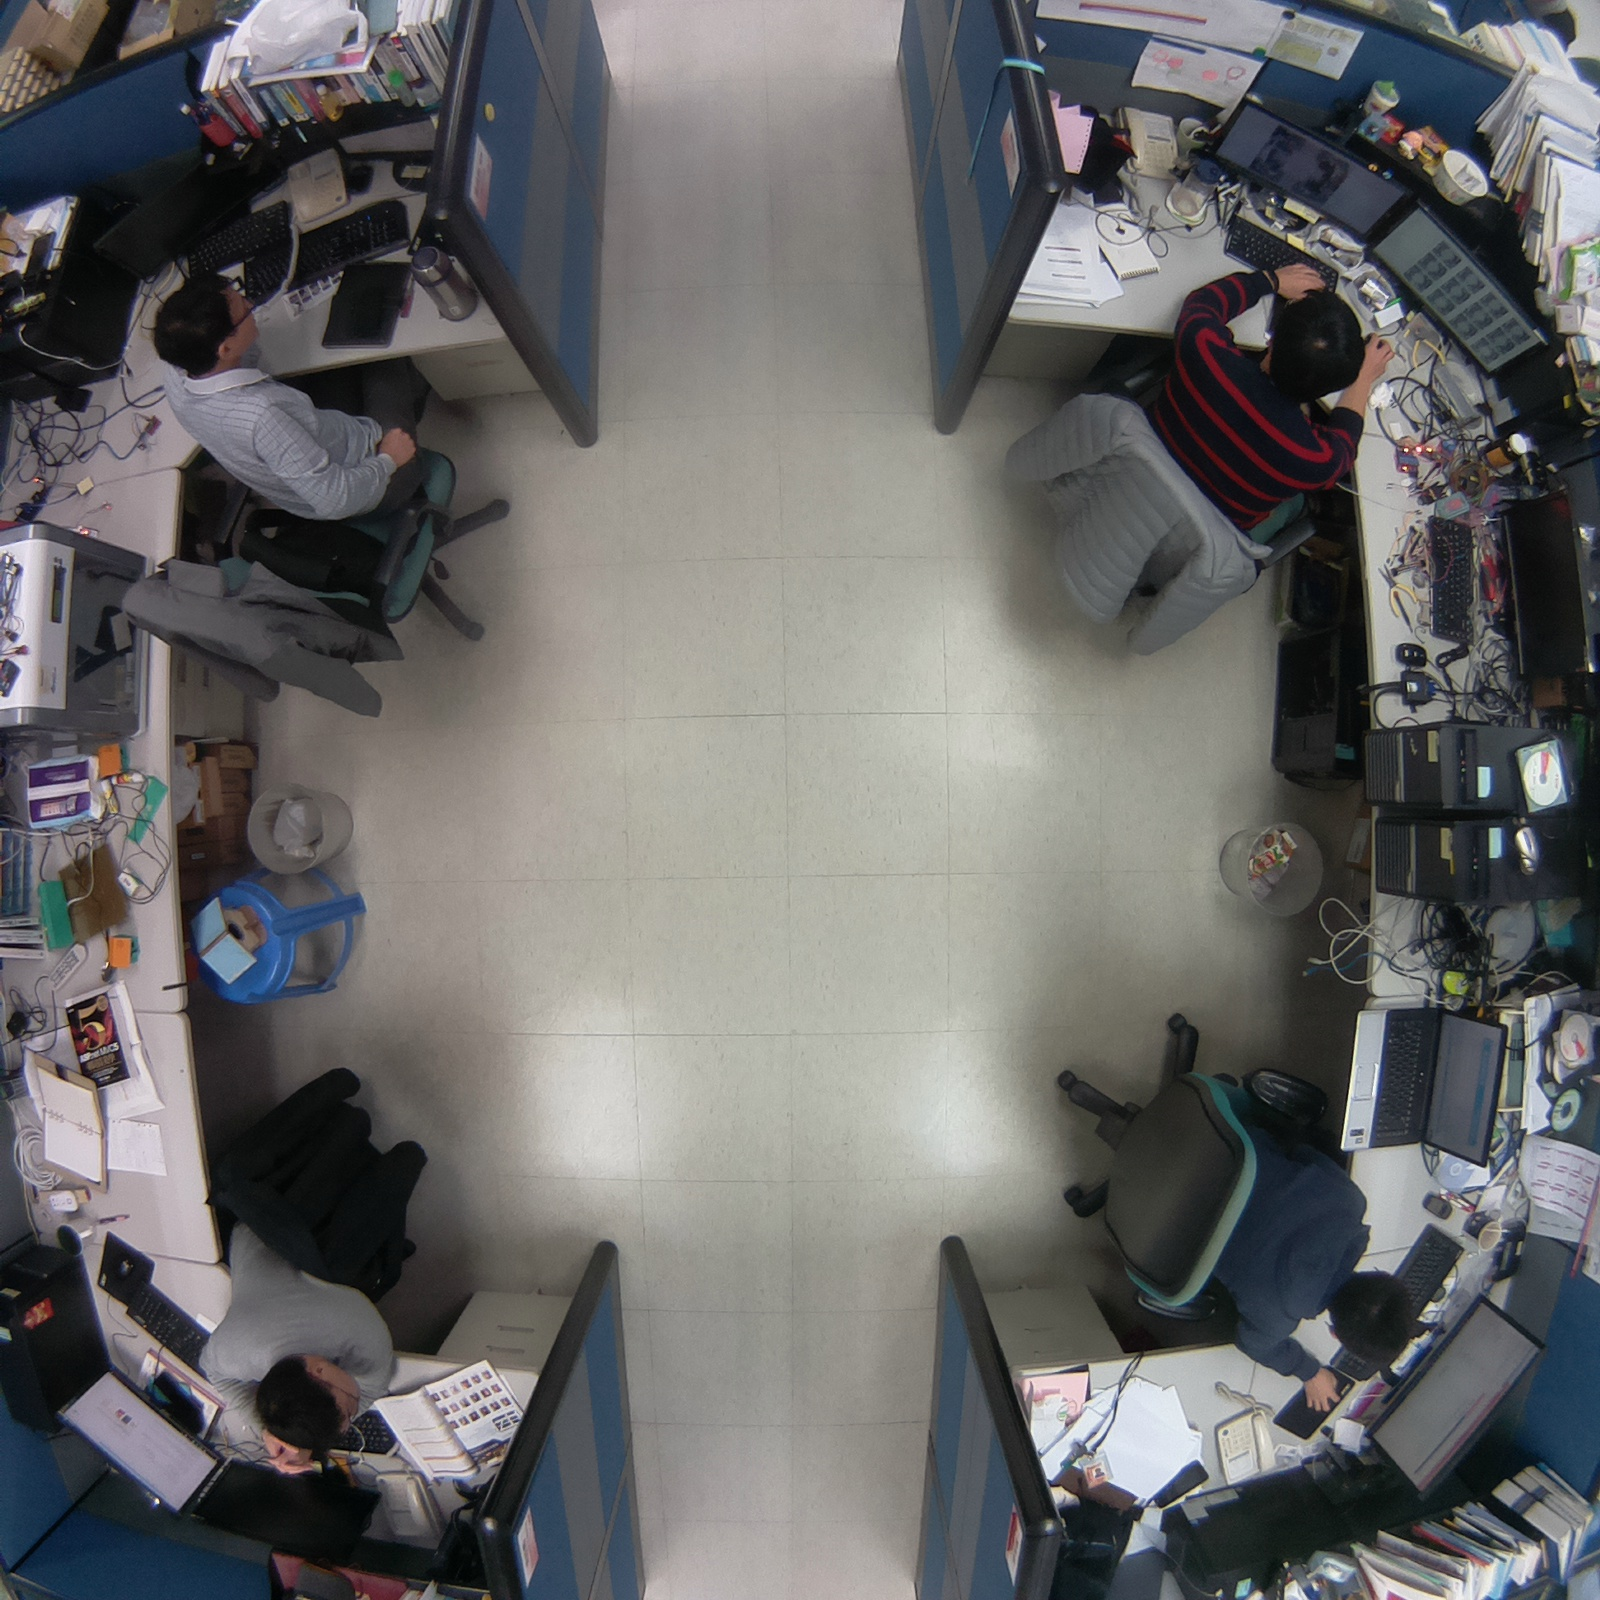head: (1255, 282, 1366, 406), (149, 265, 268, 380), (249, 1344, 366, 1457), (1321, 1261, 1421, 1374)
sitting: (99, 258, 527, 724), (1027, 1001, 1429, 1419), (1001, 245, 1396, 663), (196, 1037, 450, 1483)
